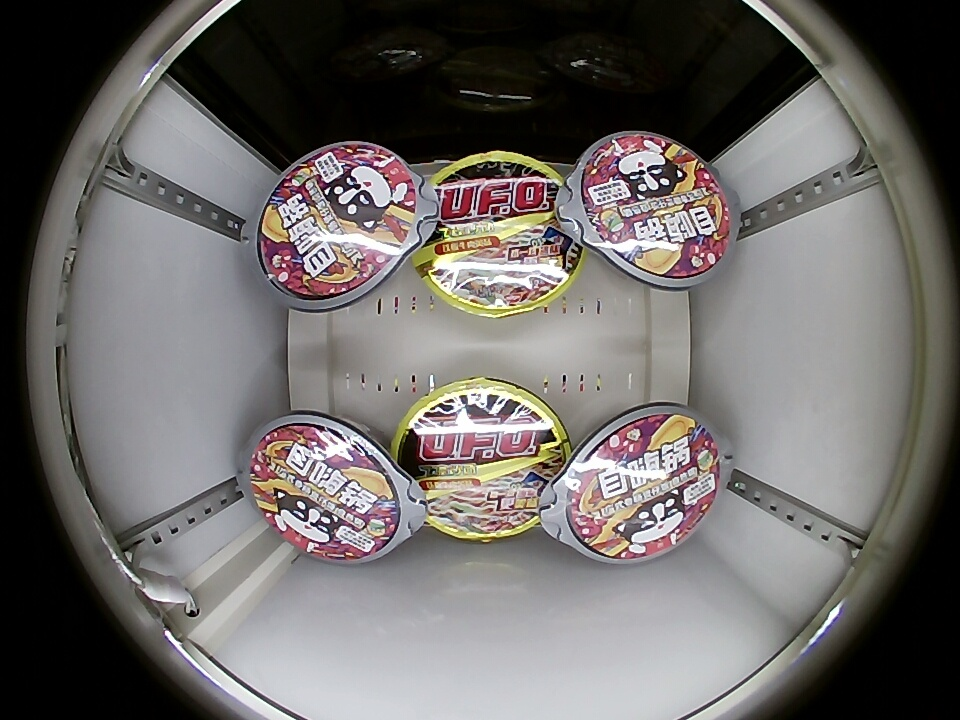ufo: (390, 377, 572, 543), (414, 151, 582, 320)
zihaiguo: (257, 143, 417, 299), (565, 414, 720, 559), (579, 135, 730, 280), (250, 423, 400, 560)
